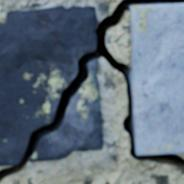brick: (130, 4, 183, 154)
broken_brick: (0, 6, 96, 165), (30, 59, 102, 161)
crack: (0, 0, 183, 182)
